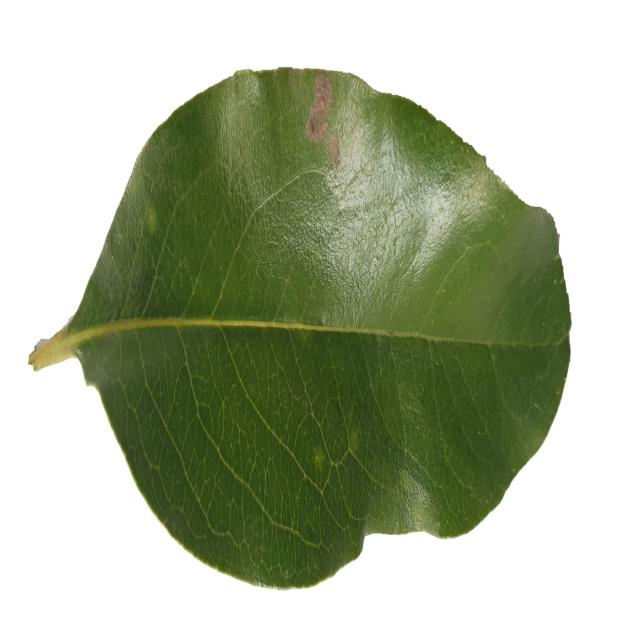Medicinal-Sandalwood: (30, 64, 571, 588)
